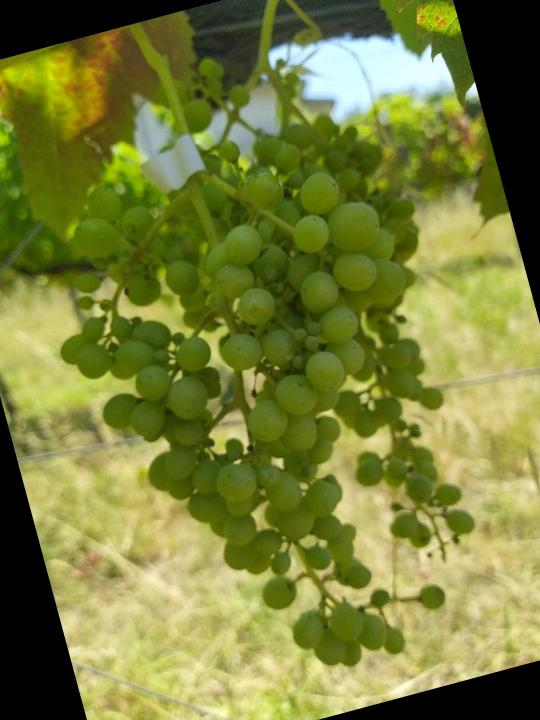grape: (12, 105, 499, 720)
